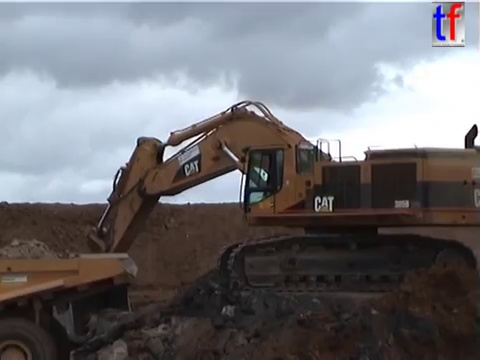excavator: (32, 98, 480, 350)
truck: (1, 247, 140, 359)
